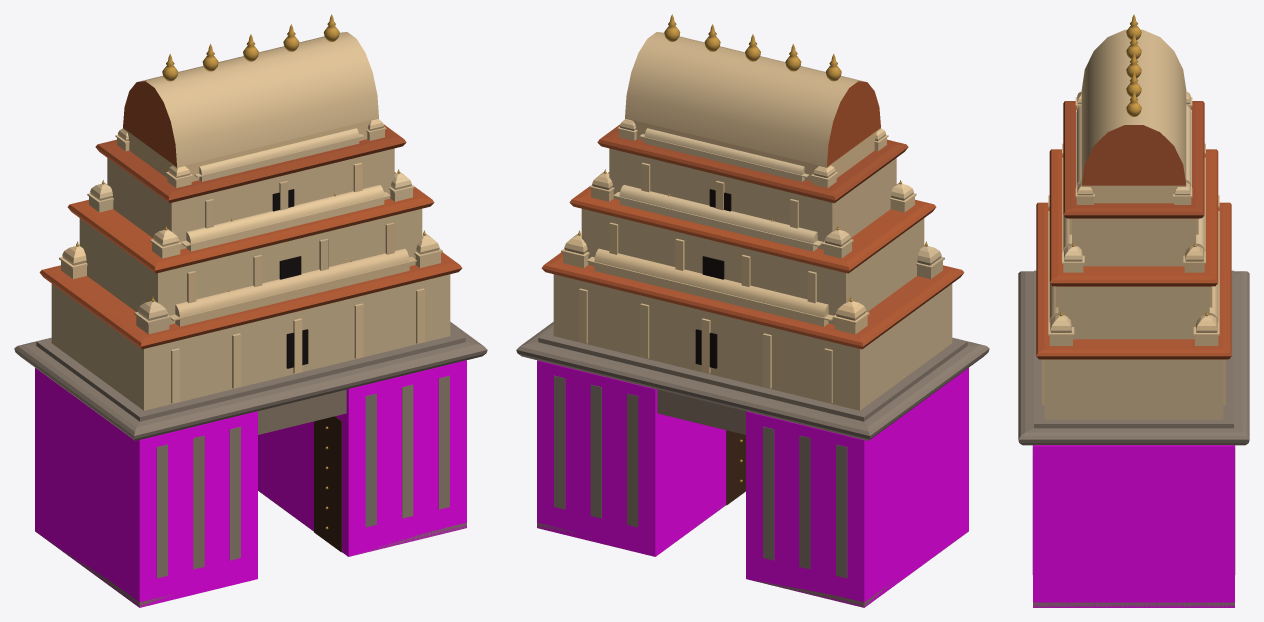
The model's file is ENV_Gopuram_Entrance_A.glb.
The picture shows the model from 3 angles, left to right: view 1: azimuth 30°, elevation 25°; view 2: azimuth 150°, elevation 25°; view 3: azimuth 270°, elevation 25°; orthographic projection. The views are drawn at different scales.
Visible parts, largest first — view 1: ENV_Gopuram_Entrance_A_Mesh, COL_Pier_-1, COL_Pier_1; view 2: ENV_Gopuram_Entrance_A_Mesh, COL_Pier_-1, COL_Pier_1; view 3: ENV_Gopuram_Entrance_A_Mesh, COL_Pier_1.
Part boxes in pixels (x1,y1,x2,y2): ENV_Gopuram_Entrance_A_Mesh: (14, 14, 487, 607); COL_Pier_-1: (35, 368, 257, 607); COL_Pier_1: (258, 360, 466, 556); ENV_Gopuram_Entrance_A_Mesh: (516, 14, 989, 607); COL_Pier_-1: (746, 368, 968, 607); COL_Pier_1: (537, 360, 726, 556); ENV_Gopuram_Entrance_A_Mesh: (1018, 14, 1249, 607); COL_Pier_1: (1033, 445, 1234, 607).
Size of the model in its own units: 10.16 by 13.62 by 5.96.
